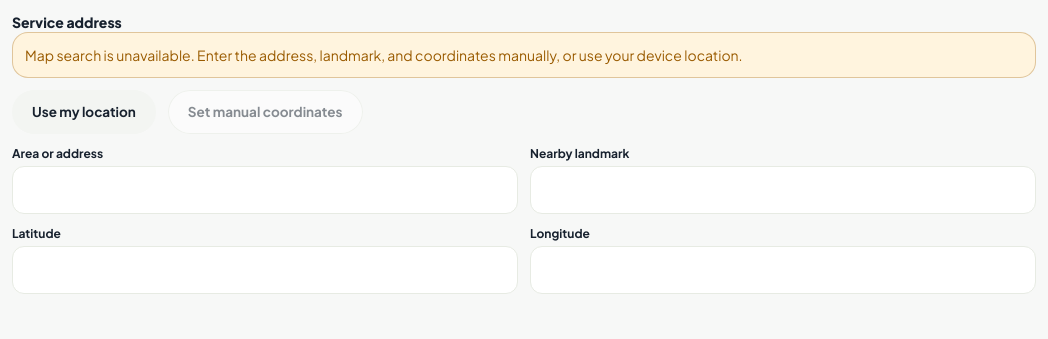
Test: Use my location › does not ask a second time after a denial
Click the button "Use my location".
click(84, 112)  # box 12,90 -> 156,134
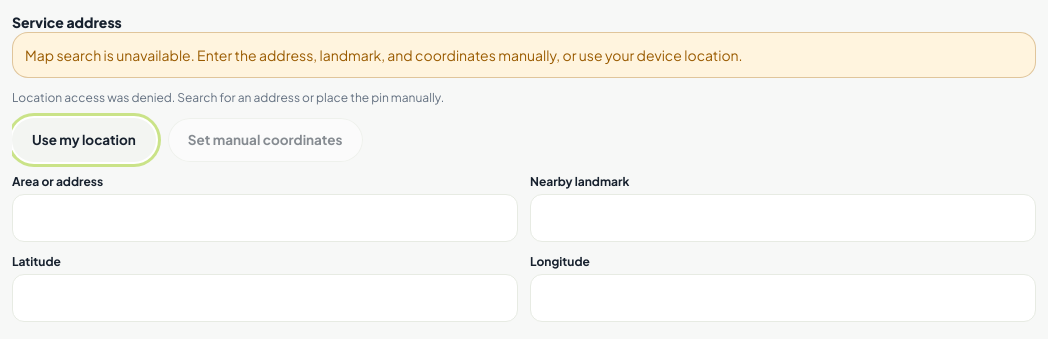
Check: the text "Location access was denied. Search for an address or place the pin manually." is shown, box 12,90 -> 444,105
